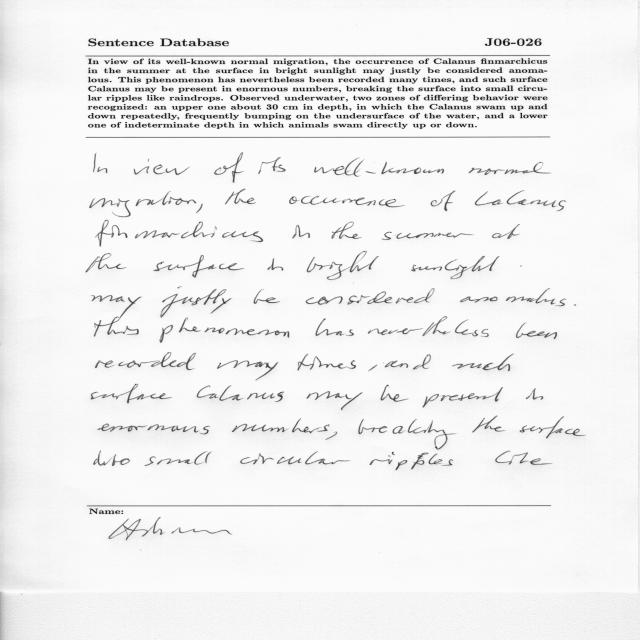word: (96, 220, 263, 247), (160, 317, 290, 343), (358, 419, 456, 449), (90, 191, 197, 217), (314, 158, 444, 177), (368, 317, 489, 337), (161, 287, 232, 318), (306, 288, 435, 305), (307, 251, 379, 280), (412, 256, 500, 279), (154, 255, 245, 277), (475, 190, 566, 211), (460, 288, 566, 306), (95, 353, 196, 370), (91, 384, 172, 404), (423, 387, 504, 407), (370, 452, 453, 470), (197, 385, 284, 402), (232, 418, 329, 433), (520, 417, 585, 439), (240, 452, 350, 465), (289, 196, 405, 207), (98, 424, 210, 435), (217, 361, 278, 381), (92, 295, 142, 318), (469, 162, 551, 175), (307, 391, 363, 410), (452, 354, 514, 371), (297, 354, 356, 370), (144, 452, 211, 466), (214, 153, 244, 183), (94, 317, 139, 337), (134, 159, 190, 175), (86, 253, 127, 273), (495, 451, 552, 465), (382, 232, 474, 240), (315, 318, 354, 336), (385, 355, 431, 370), (516, 323, 557, 339), (472, 416, 505, 433), (332, 221, 362, 239), (94, 451, 130, 466), (431, 191, 456, 211), (258, 157, 286, 174), (381, 385, 409, 402), (225, 189, 256, 204), (492, 224, 520, 239), (254, 289, 280, 304), (94, 154, 108, 173), (292, 225, 310, 238), (526, 388, 544, 400), (268, 258, 284, 271), (326, 432, 337, 440), (196, 204, 203, 213), (368, 365, 377, 371), (574, 304, 576, 306)
